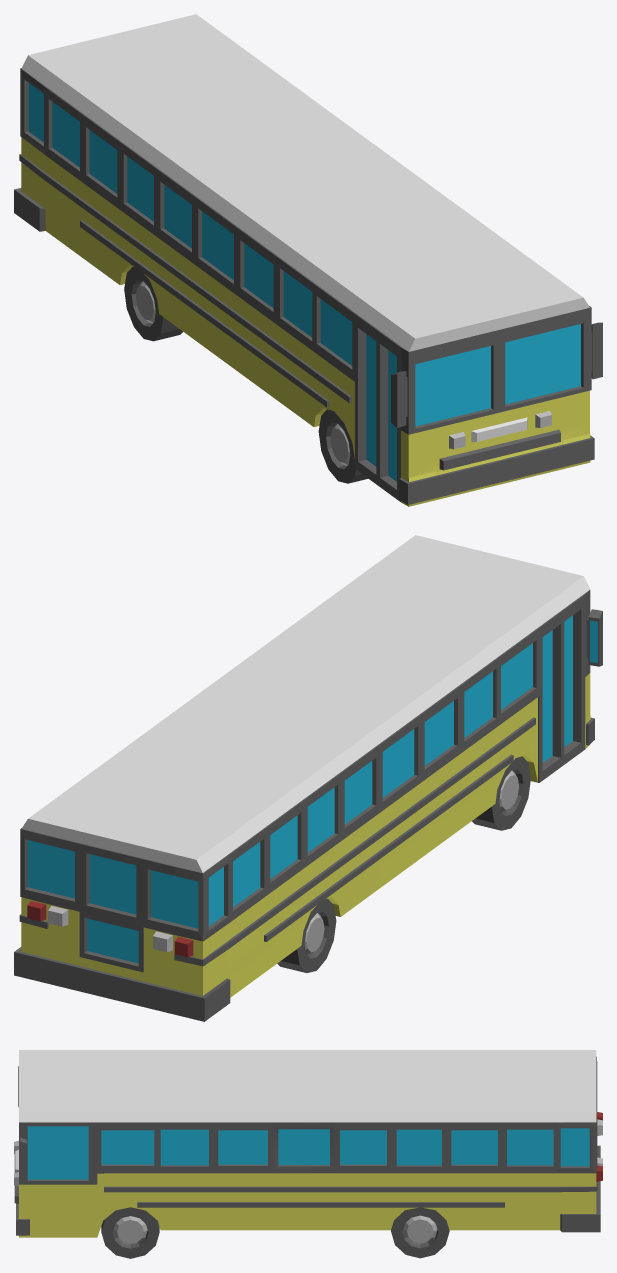
Rendered from School Bus.fbx.
3 views of the same model, one above another, from view 1: azimuth 30°, elevation 25°; view 2: azimuth 150°, elevation 25°; view 3: azimuth 270°, elevation 25° (orthographic). The views are drawn at different scales.
Parts seen in each view (by area): view 1: polySurface10; view 2: polySurface10; view 3: polySurface10.
Part boxes in pixels (box(x1,y1,x2,y2)): polySurface10: box(14, 14, 602, 506); polySurface10: box(14, 535, 602, 1021); polySurface10: box(14, 1050, 602, 1258).
Size of the model in its own units: 4.08 by 3.68 by 13.39.
